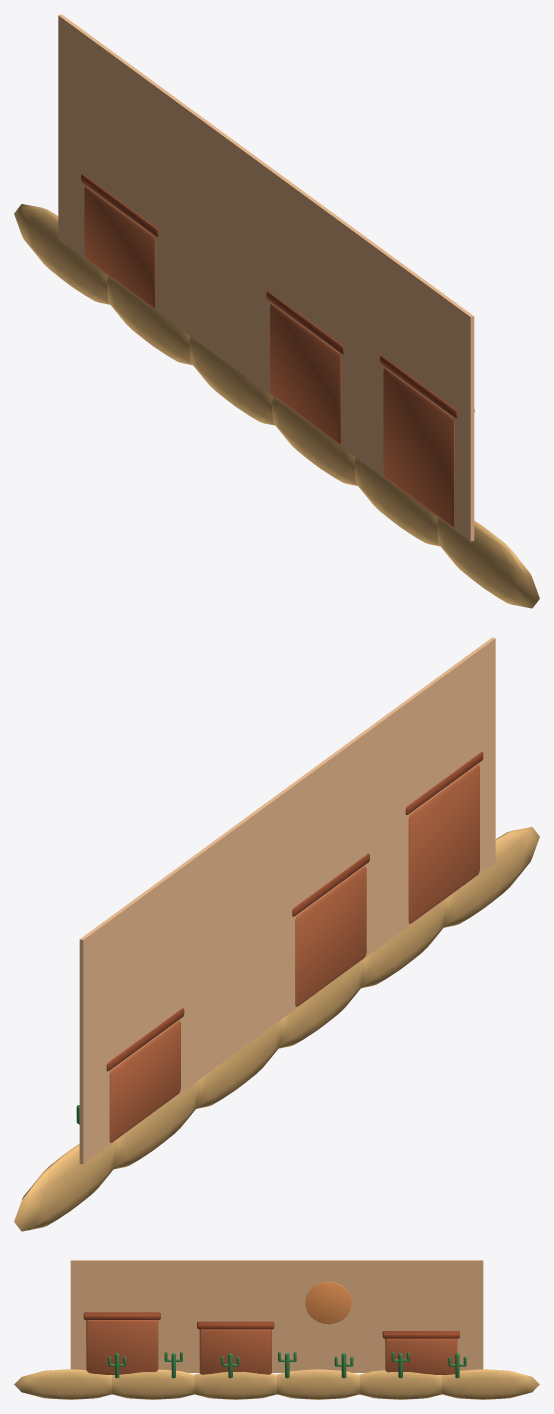
The model's file is BackdropDesert.fbx.
3 views of the same model, one above another, from view 1: azimuth 30°, elevation 25°; view 2: azimuth 150°, elevation 25°; view 3: azimuth 270°, elevation 25° (orthographic). The views are drawn at different scales.
Parts seen in each view (by area): view 1: BackdropDesert; view 2: BackdropDesert; view 3: BackdropDesert.
Part boxes in pixels (x1,y1,x2,y2): BackdropDesert: (14,14,539,608); BackdropDesert: (14,637,539,1231); BackdropDesert: (14,1260,539,1399).
Bounding box in the file's own units: 305 × 2930 × 10200.
